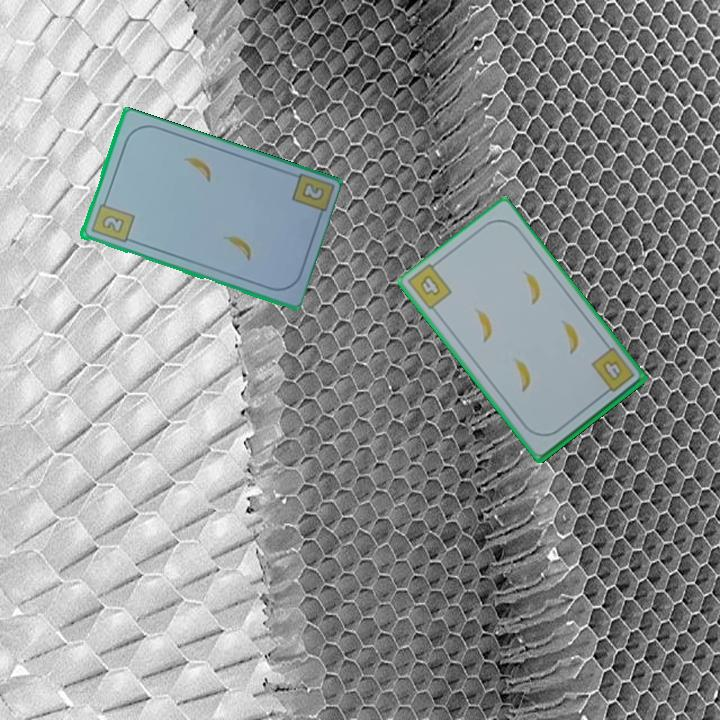2b: (87, 195, 137, 246), (298, 179, 327, 204)
4b: (588, 344, 637, 399), (416, 271, 443, 299)
